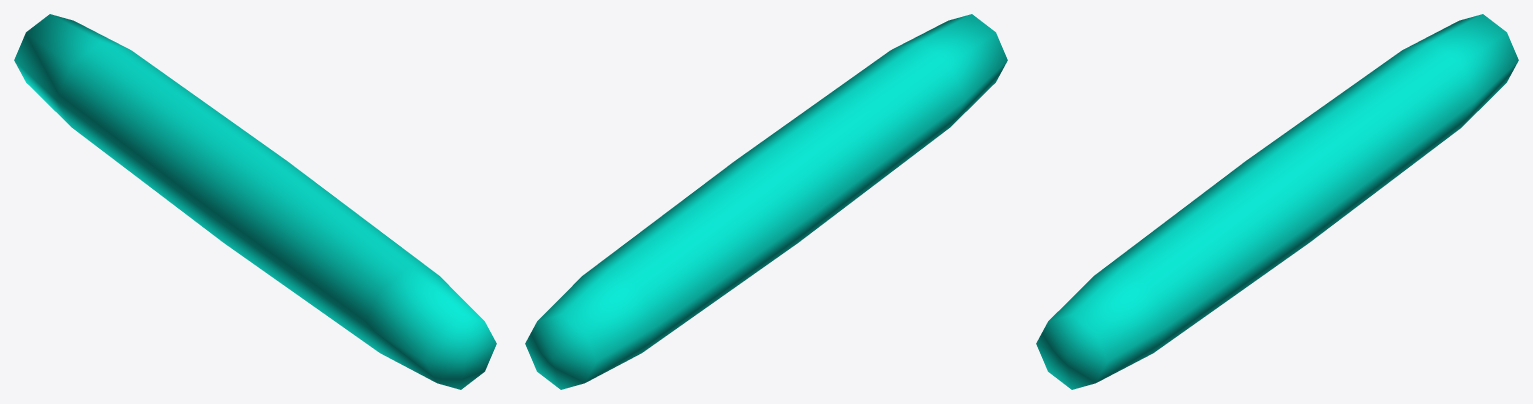
Rendered from livingroom_Cigar.fbx.
3 views of the same model, side by side, from view 1: azimuth 30°, elevation 25°; view 2: azimuth 150°, elevation 25°; view 3: azimuth 330°, elevation 25° (orthographic).
Visible parts, largest first — view 1: LivingRoom_Cigarillo001; view 2: LivingRoom_Cigarillo001; view 3: LivingRoom_Cigarillo001.
Part boxes in pixels (x1,y1,x2,y2): LivingRoom_Cigarillo001: [14, 14, 496, 389]; LivingRoom_Cigarillo001: [525, 14, 1007, 389]; LivingRoom_Cigarillo001: [1036, 14, 1518, 389].
Size of the model in its own units: 0.232 by 0.232 by 1.78.
